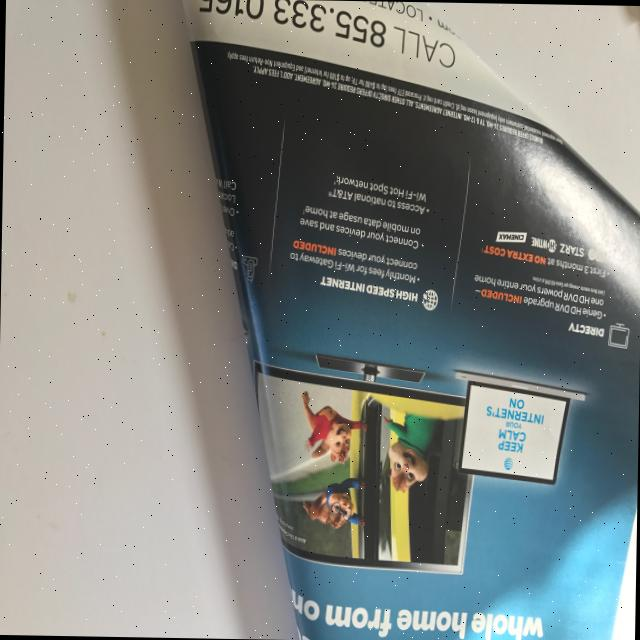paper: (166, 0, 640, 640)
